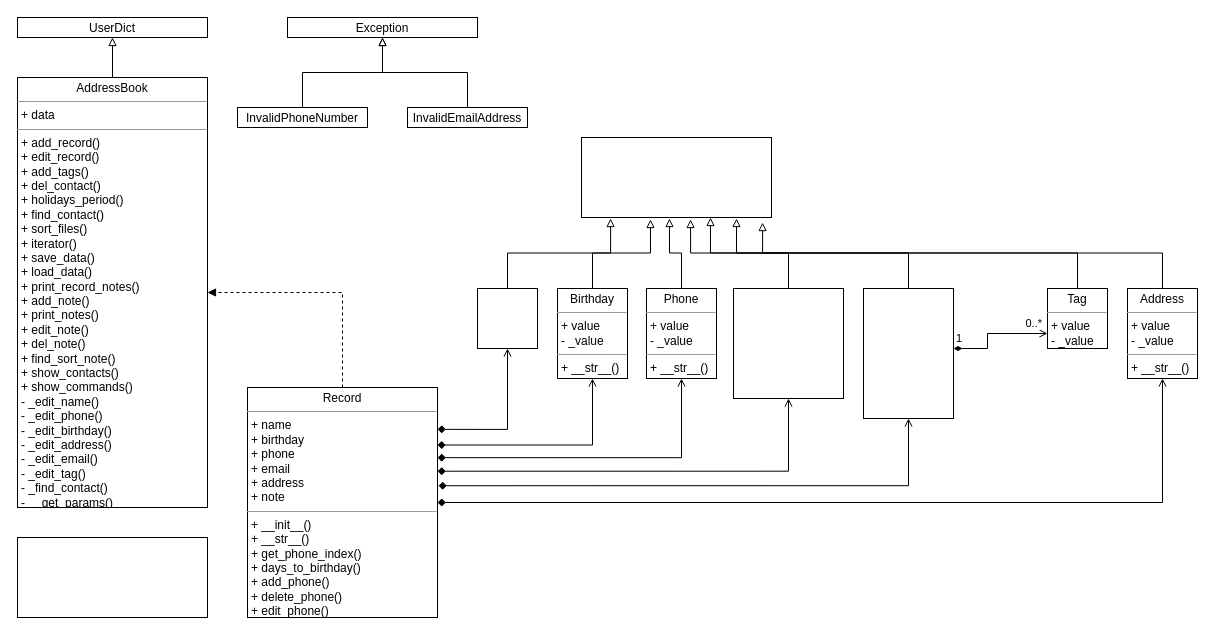
Some shapes in this 1215 by 635 pixel diagram are drawn without their labels. Each missing label, with the box of its shape:
CommandHandler + __call__(): (16, 536, 208, 618)
Email + value - _value + __str__() - __check_email(): (732, 288, 844, 398)
Field + value + __init__(): (580, 136, 772, 218)
Name + value - _value: (476, 288, 538, 348)
Note + value - _value + tag - _created_at + __init__() + __str__(): (862, 288, 954, 418)
